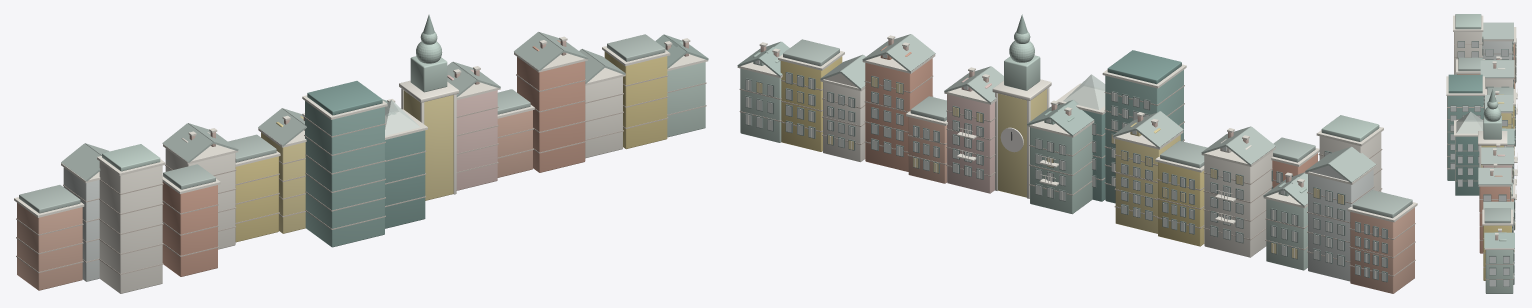
File: footer-city.glb
3 views of the same model, side by side, from view 1: azimuth 30°, elevation 25°; view 2: azimuth 150°, elevation 25°; view 3: azimuth 270°, elevation 25° (orthographic). The views are drawn at different scales.
Visible parts, largest first — view 1: Bld_08_body, Bld_02_body, Bld_14_body, Bld_00_body, Bld_04_body, Bld_16_body, Bld_12_body, Bld_09_body, Bld_06_body, Bld_11_shaft, Bld_15_body, Bld_17_body (+26 smaller); view 2: Bld_05_body, Bld_14_body, Bld_10_body, Bld_00_body, Bld_01_body, Bld_08_body, Bld_12_body, Bld_11_shaft, Bld_07_body, Bld_16_body, Bld_06_body, Bld_15_body (+40 smaller); view 3: Bld_09_body, Bld_08_body, Bld_17_body, Bld_08_flat, Bld_14_body, Bld_02_body, Bld_09, Bld_05_roof_r, Bld_14_roof_r, Bld_12_roof_r, Bld_08, Bld_01_roof_r (+40 smaller).
Boxes of the visible parts, box(x1,y1,x2,y2) form: Bld_08_body: box(305, 101, 384, 247); Bld_02_body: box(99, 161, 162, 293); Bld_14_body: box(517, 57, 585, 172); Bld_00_body: box(17, 203, 82, 290); Bld_04_body: box(162, 182, 217, 276); Bld_16_body: box(604, 51, 667, 149); Bld_12_body: box(456, 90, 497, 190); Bld_09_body: box(385, 130, 425, 228); Bld_06_body: box(235, 156, 278, 242); Bld_11_shaft: box(403, 90, 453, 200); Bld_15_body: box(585, 76, 622, 158); Bld_17_body: box(667, 62, 705, 137); Bld_05_body: box(1204, 151, 1272, 257); Bld_14_body: box(865, 58, 932, 171); Bld_10_body: box(1030, 124, 1092, 214); Bld_00_body: box(1350, 207, 1414, 293); Bld_01_body: box(1308, 169, 1373, 281); Bld_08_body: box(1105, 70, 1183, 203); Bld_12_body: box(947, 94, 994, 193); Bld_11_shaft: box(998, 89, 1046, 197); Bld_07_body: box(1115, 135, 1180, 233); Bld_16_body: box(780, 56, 842, 151); Bld_06_body: box(1158, 162, 1204, 246); Bld_15_body: box(823, 82, 865, 162); Bld_09_body: box(1455, 136, 1479, 195); Bld_08_body: box(1447, 96, 1483, 180); Bld_17_body: box(1485, 250, 1513, 293); Bld_08_flat: box(1448, 74, 1482, 93); Bld_14_body: box(1479, 186, 1510, 253); Bld_02_body: box(1454, 32, 1482, 74); Bld_09: box(1455, 137, 1479, 186); Bld_05_roof_r: box(1480, 60, 1514, 77); Bld_14_roof_r: box(1478, 168, 1511, 185); Bld_12_roof_r: box(1481, 147, 1513, 164); Bld_08: box(1447, 96, 1484, 169); Bld_01_roof_r: box(1482, 23, 1513, 39).
Size of the model in its own units: 22.32 by 5.64 by 3.11.
